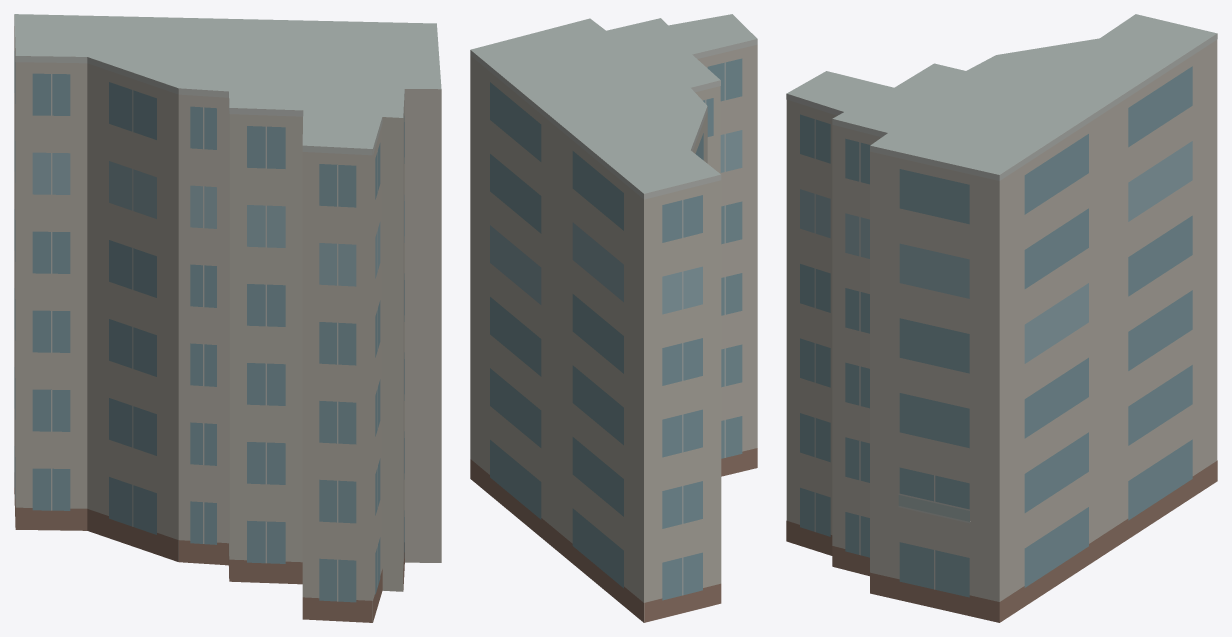
The model's file is survey-upis-32872974.glb.
3 views of the same model, side by side, from view 1: azimuth 30°, elevation 25°; view 2: azimuth 150°, elevation 25°; view 3: azimuth 270°, elevation 25° (orthographic). The views are drawn at different scales.
Visible parts, largest first — view 1: survey-upis-32872974.tmp; view 2: survey-upis-32872974.tmp; view 3: survey-upis-32872974.tmp.
Boxes of the visible parts, bbox=[...] form: survey-upis-32872974.tmp: bbox=[14, 14, 441, 622]; survey-upis-32872974.tmp: bbox=[470, 14, 757, 622]; survey-upis-32872974.tmp: bbox=[786, 14, 1217, 622].
Bounding box in the file's own units: 14.12 × 18.3 × 15.97.
